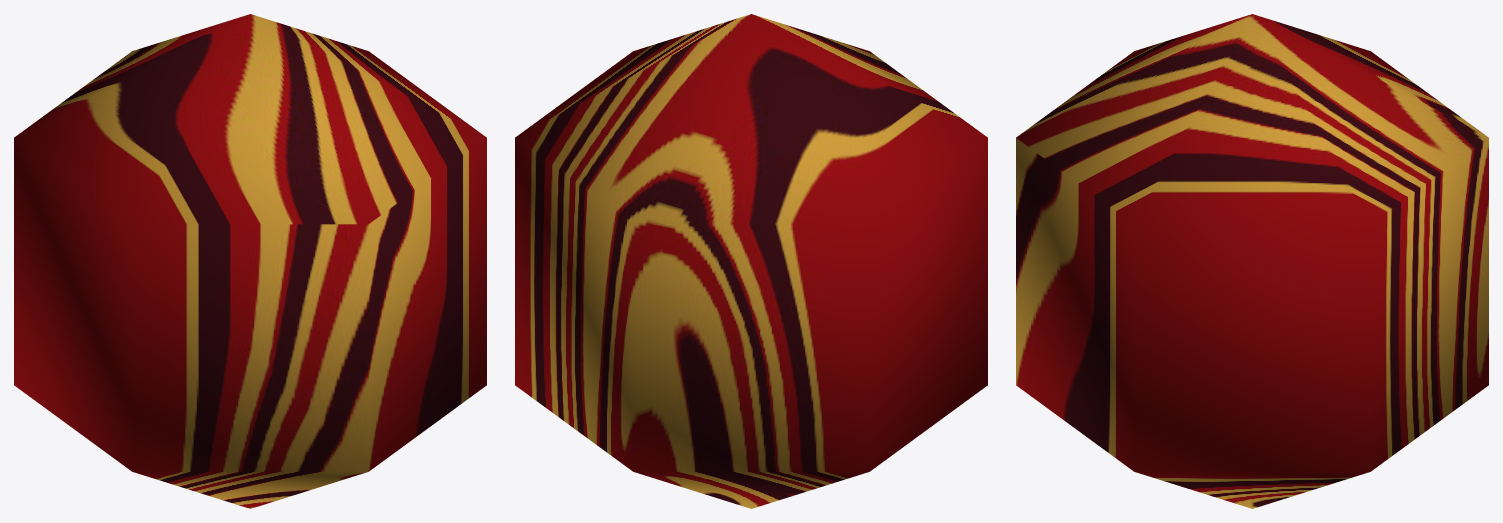
File: mummymarble_shooter.DAE
3 renders of one model, left to right at view 1: azimuth 30°, elevation 25°; view 2: azimuth 150°, elevation 25°; view 3: azimuth 270°, elevation 25°, orthographic.
Visible parts, largest first — view 1: Shooter_D; view 2: Shooter_D; view 3: Shooter_D.
Part boxes in pixels (x1=…): Shooter_D: x1=14, y1=14, x2=486, y2=508; Shooter_D: x1=515, y1=14, x2=987, y2=508; Shooter_D: x1=1016, y1=14, x2=1488, y2=508.
Bounding box in the file's own units: 0.0381 × 0.044 × 0.0508.
1 material, 1 textured.
